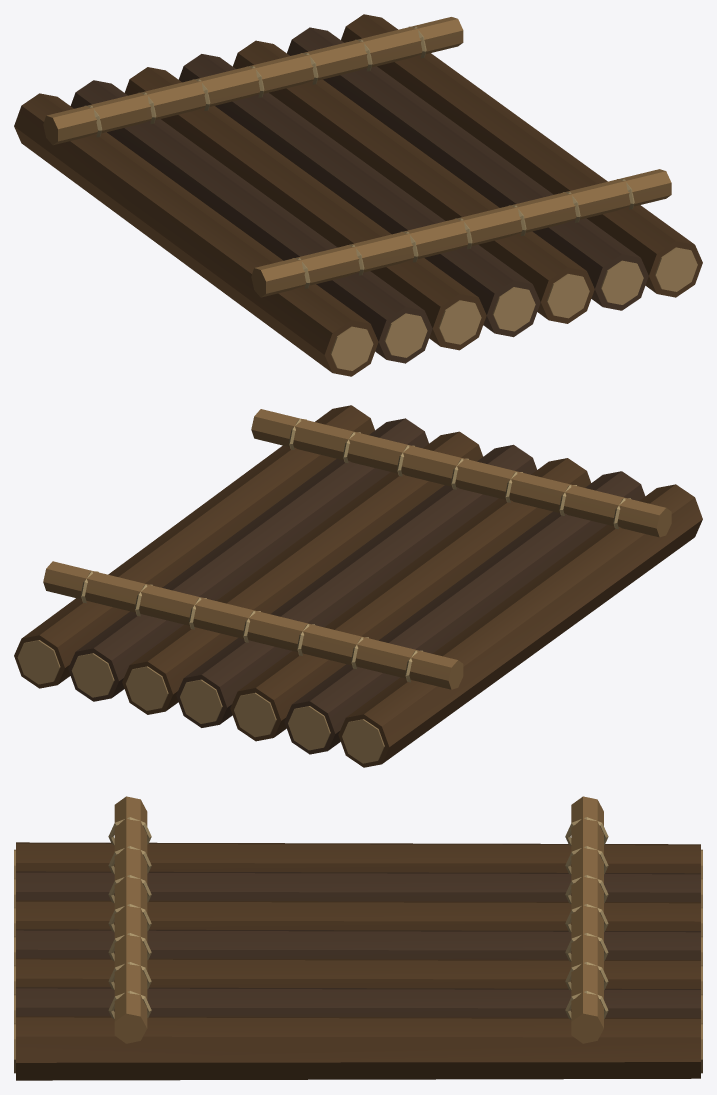
File: RaftFrame.fbx
3 views of the same model, one above another, from view 1: azimuth 30°, elevation 25°; view 2: azimuth 150°, elevation 25°; view 3: azimuth 270°, elevation 25° (orthographic). The views are drawn at different scales.
Visible parts, largest first — view 1: RaftFrame; view 2: RaftFrame; view 3: RaftFrame.
Boxes of the visible parts, <box> form: RaftFrame: <box>14,14,702,376</box>; RaftFrame: <box>14,405,702,767</box>; RaftFrame: <box>14,796,702,1080</box>.
Bounding box in the file's own units: 2.7 × 0.514 × 3.62.
